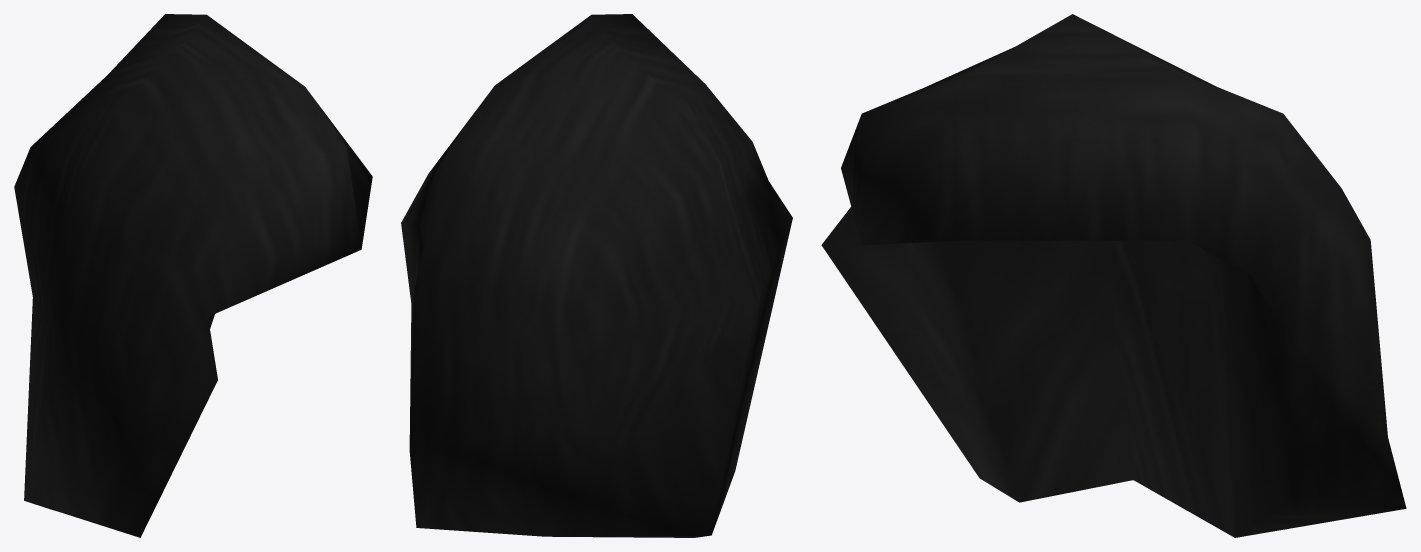
File: bassdrop.glb
3 views of the same model, side by side, from view 1: azimuth 30°, elevation 25°; view 2: azimuth 150°, elevation 25°; view 3: azimuth 270°, elevation 25° (orthographic). The views are drawn at different scales.
Parts seen in each view (by area): view 1: Bass Drop; view 2: Bass Drop; view 3: Bass Drop.
Boxes of the visible parts, <box> form: Bass Drop: <box>14,14,372,537</box>; Bass Drop: <box>401,14,792,537</box>; Bass Drop: <box>821,14,1406,537</box>.
Bounding box in the file's own units: 0.1773 × 0.2779 × 0.2819.
Materials: 1 (1 with a texture image).
